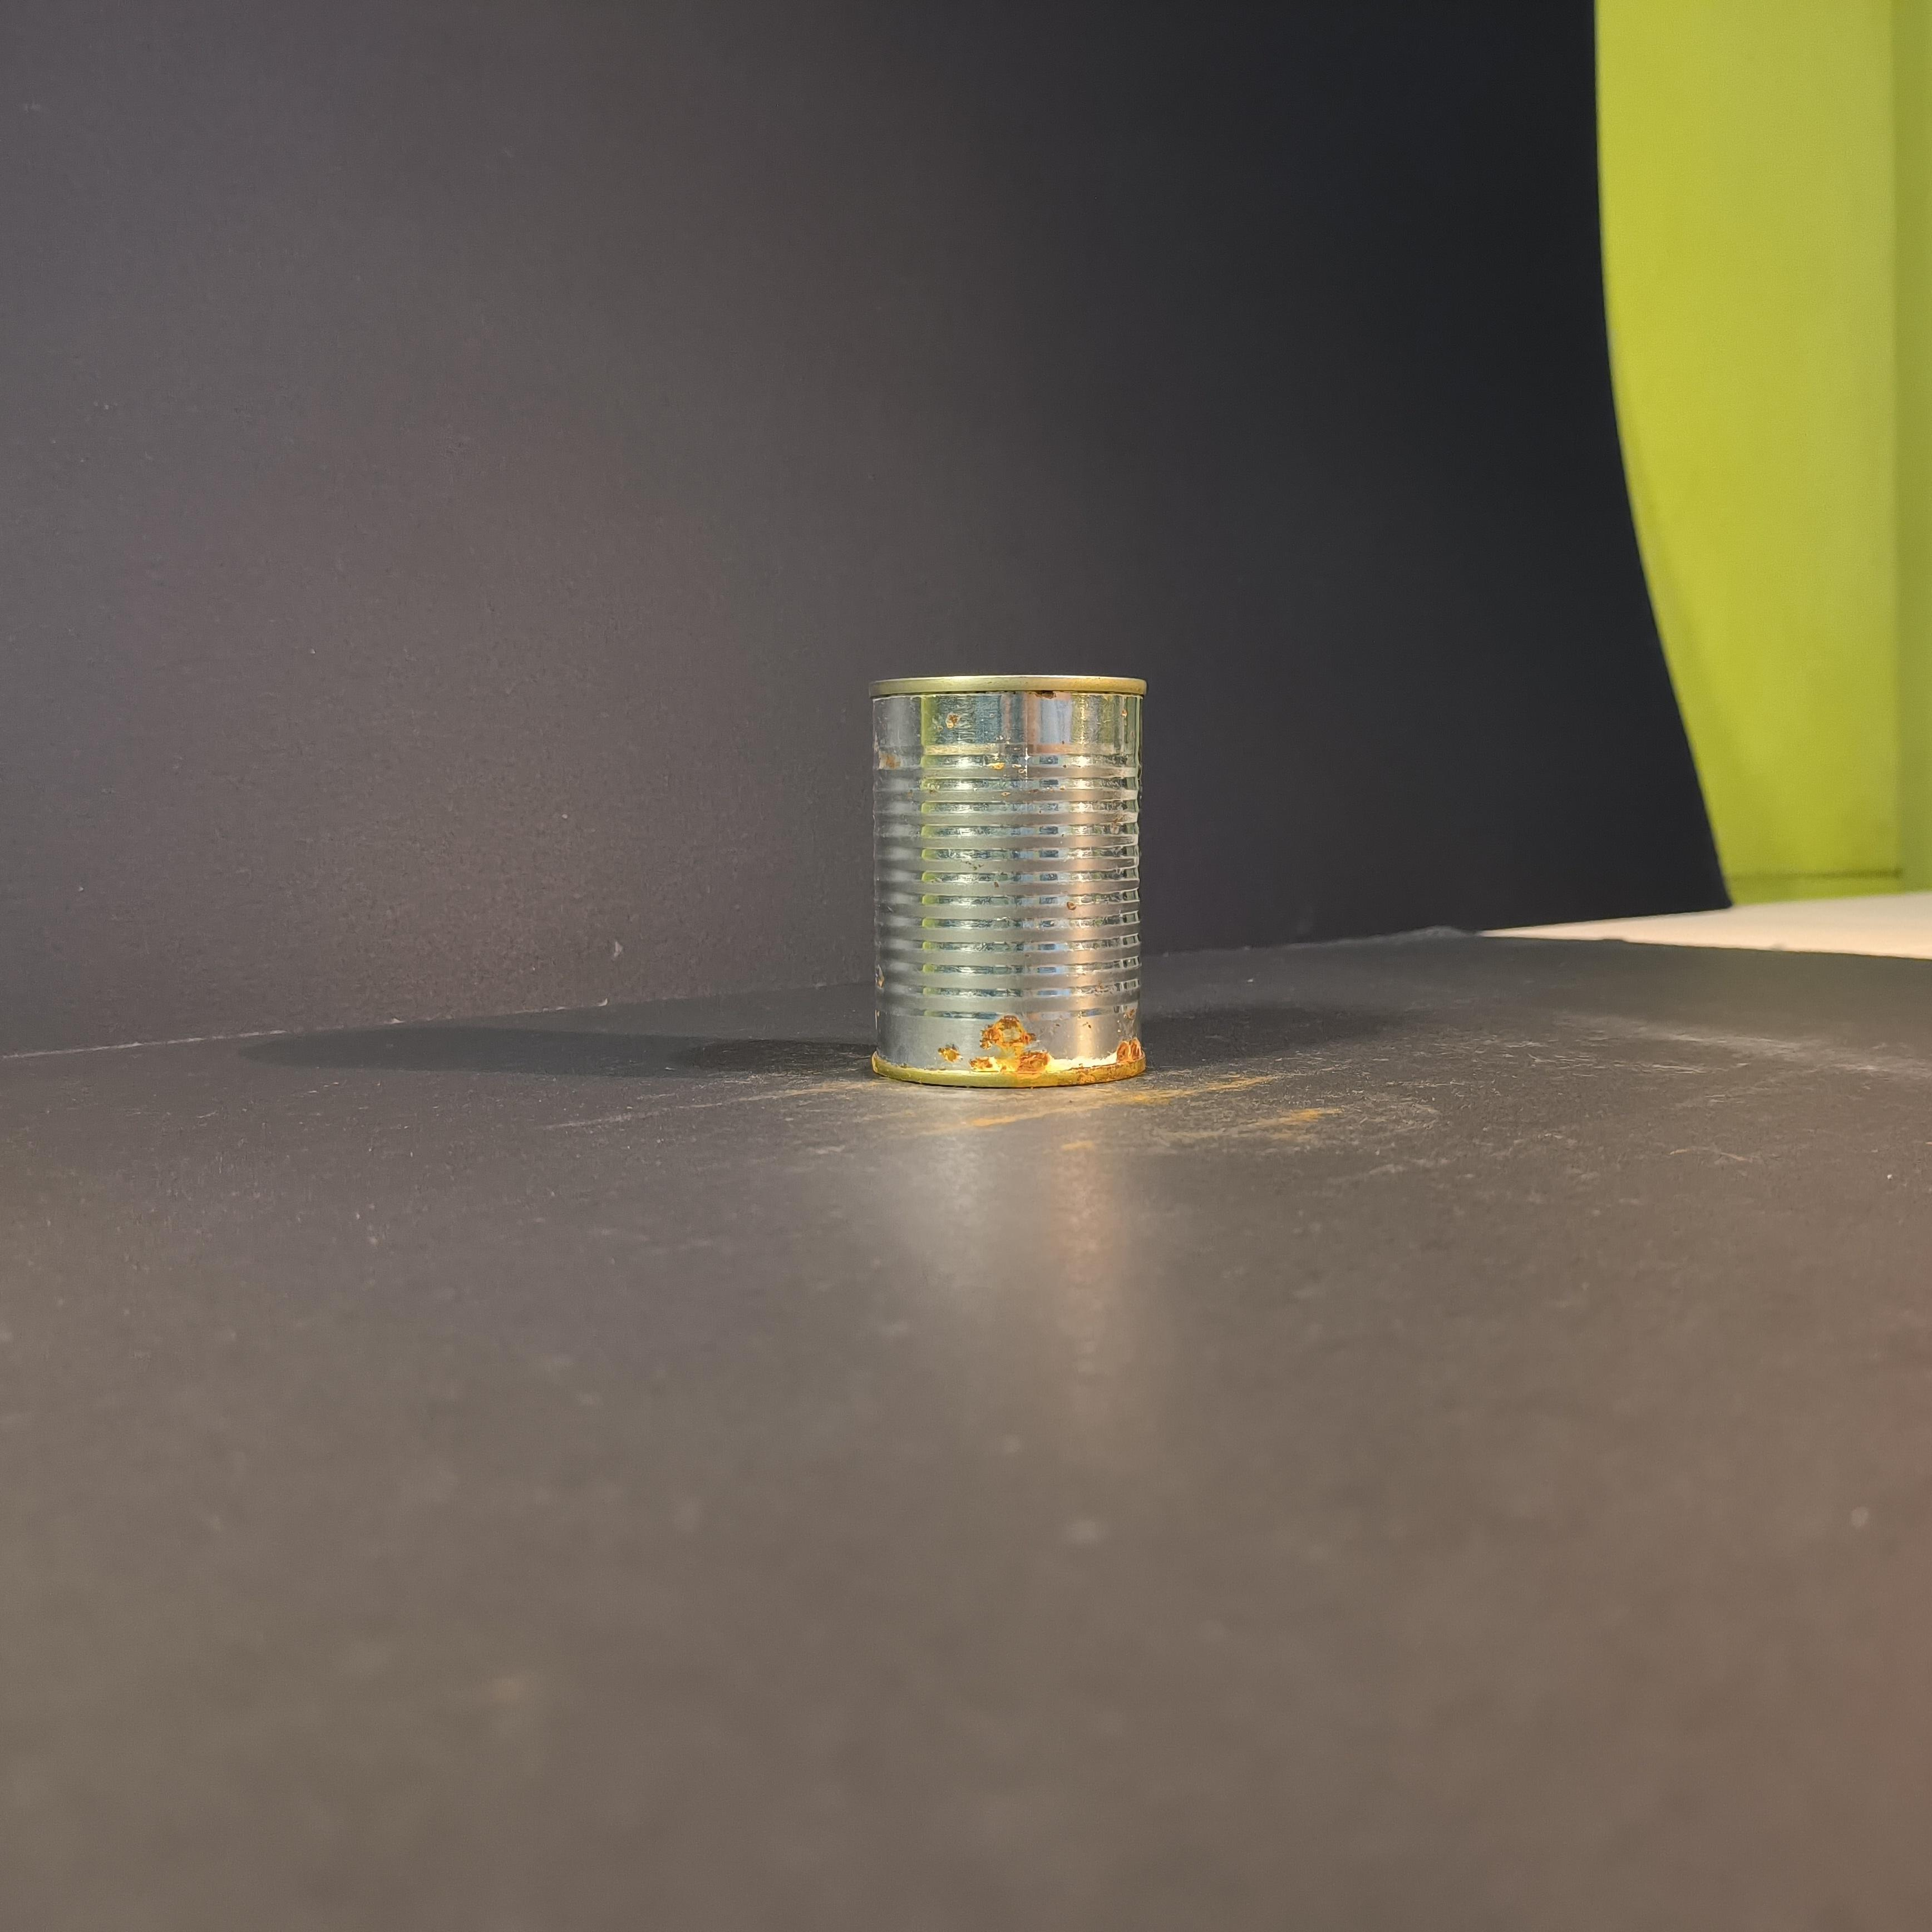Rusted: (849, 655, 1168, 1102)
